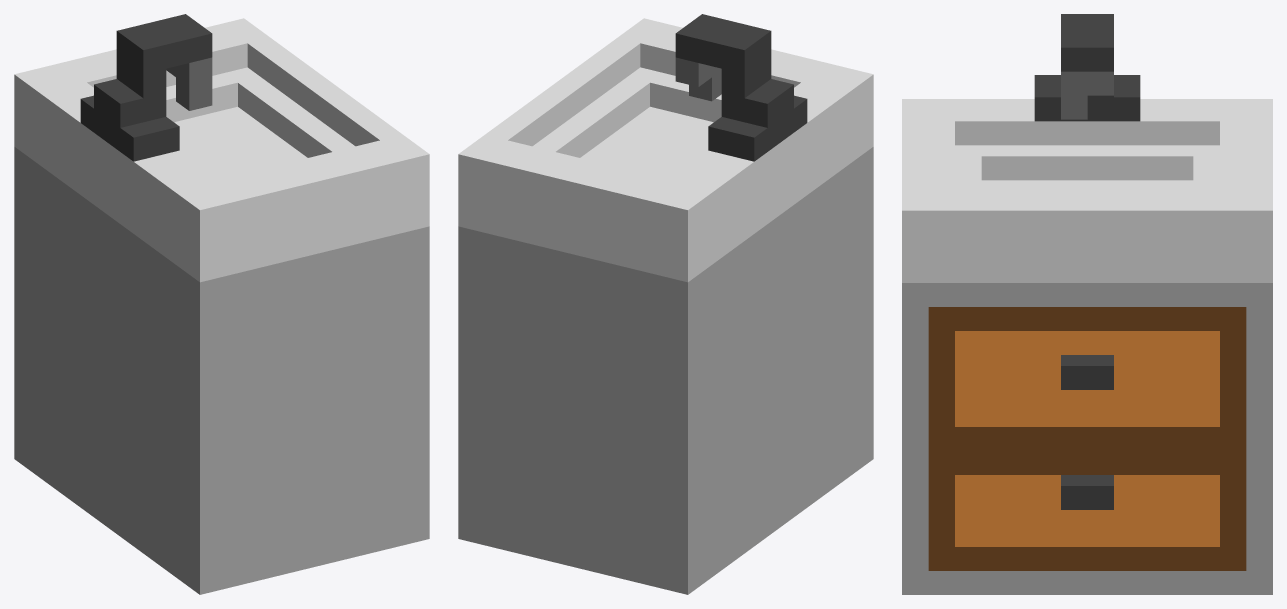
The model's file is evier.obj.
3 renders of one model, left to right at view 1: azimuth 30°, elevation 25°; view 2: azimuth 150°, elevation 25°; view 3: azimuth 270°, elevation 25°, orthographic.
Parts seen in each view (by area): view 1: evier; view 2: evier; view 3: evier.
Part boxes in pixels (x1,y1,x2,y2): evier: [14, 14, 429, 594]; evier: [458, 14, 873, 594]; evier: [902, 14, 1272, 594].
Bounding box in the file's own units: 11 × 20 × 14.
Materials: 1 (1 with a texture image).
